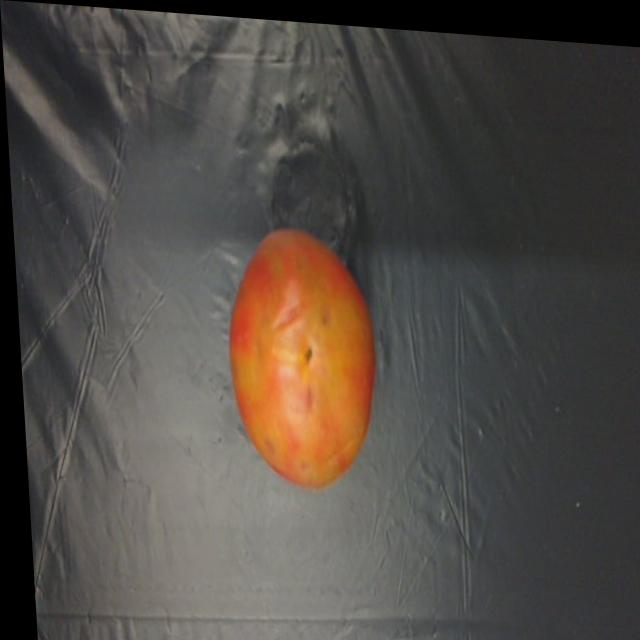sari: (203, 207, 401, 502)
